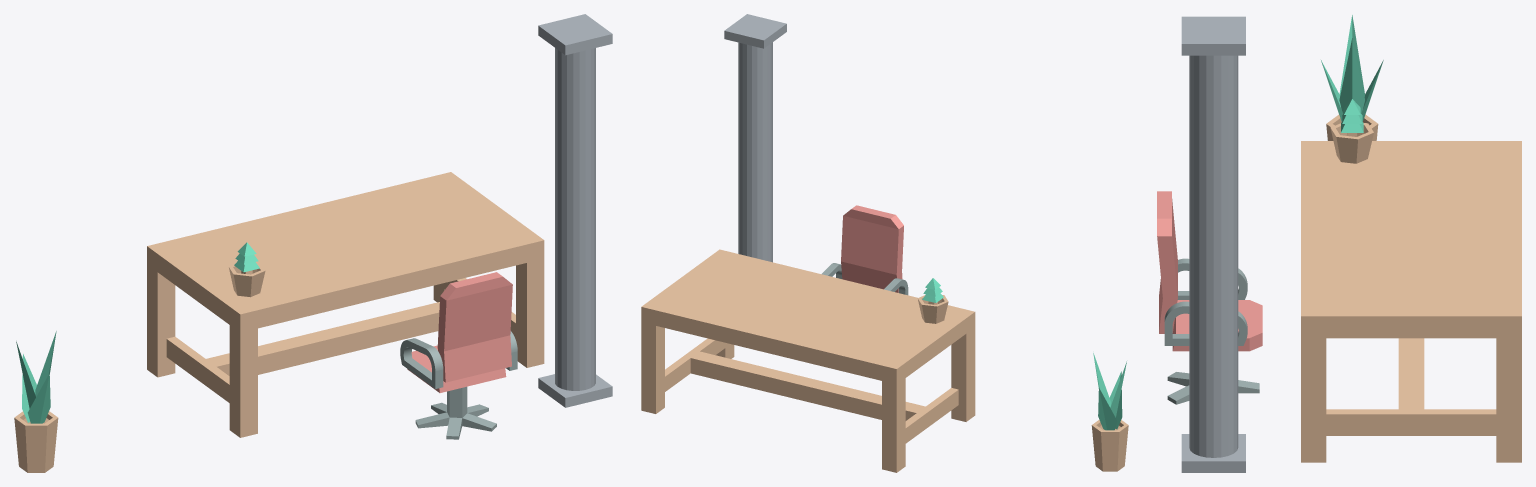
The picture shows the model from 3 angles, left to right: view 1: azimuth 30°, elevation 25°; view 2: azimuth 150°, elevation 25°; view 3: azimuth 270°, elevation 25°; orthographic projection. The views are drawn at different scales.
Visible parts, largest first — view 1: table_green__table(Clone), column_cyan__column_cyan shaft, deskchair_black__chair, plant_pink__pottedPlant(Clone), column_cyan__column_cyan capital, deskchair_black__chairDesk(Clone), plant_pink__plant, flowerpot_green__plantSmall1(Clone), column_cyan__column_cyan plinth; view 2: table_green__table(Clone), column_cyan__column_cyan shaft, deskchair_black__chair, plant_pink__pottedPlant(Clone), column_cyan__column_cyan capital, plant_pink__plant, flowerpot_green__plantSmall1(Clone); view 3: table_green__table(Clone), column_cyan__column_cyan shaft, deskchair_black__chair, column_cyan__column_cyan capital, plant_pink__plant, flowerpot_green__plantSmall1(Clone), column_cyan__column_cyan plinth, deskchair_black__chairDesk(Clone).
Part boxes in pixels (<box>): table_green__table(Clone): <box>147,172,544,437</box>; column_cyan__column_cyan shaft: <box>555,48,595,390</box>; deskchair_black__chair: <box>400,272,517,392</box>; plant_pink__pottedPlant(Clone): <box>14,411,58,472</box>; column_cyan__column_cyan capital: <box>538,14,612,55</box>; deskchair_black__chairDesk(Clone): <box>415,386,496,439</box>; plant_pink__plant: <box>16,331,56,423</box>; flowerpot_green__plantSmall1(Clone): <box>229,242,265,297</box>; column_cyan__column_cyan plinth: <box>538,374,612,407</box>; table_green__table(Clone): <box>641,249,975,472</box>; column_cyan__column_cyan shaft: <box>738,42,772,262</box>; deskchair_black__chair: <box>821,205,908,295</box>; plant_pink__pottedPlant(Clone): <box>1091,419,1128,471</box>; column_cyan__column_cyan capital: <box>724,14,786,48</box>; plant_pink__plant: <box>1093,353,1126,430</box>; flowerpot_green__plantSmall1(Clone): <box>917,278,948,323</box>; table_green__table(Clone): <box>1301,141,1521,462</box>; column_cyan__column_cyan shaft: <box>1189,55,1238,457</box>; deskchair_black__chair: <box>1157,191,1262,351</box>; column_cyan__column_cyan capital: <box>1181,16,1245,55</box>; plant_pink__plant: <box>1321,15,1383,121</box>; flowerpot_green__plantSmall1(Clone): <box>1330,99,1373,163</box>; column_cyan__column_cyan plinth: <box>1181,434,1245,472</box>; deskchair_black__chairDesk(Clone): <box>1167,372,1259,404</box>.
Bounding box in the file's own units: 3.33 × 2.2 × 1.7.
